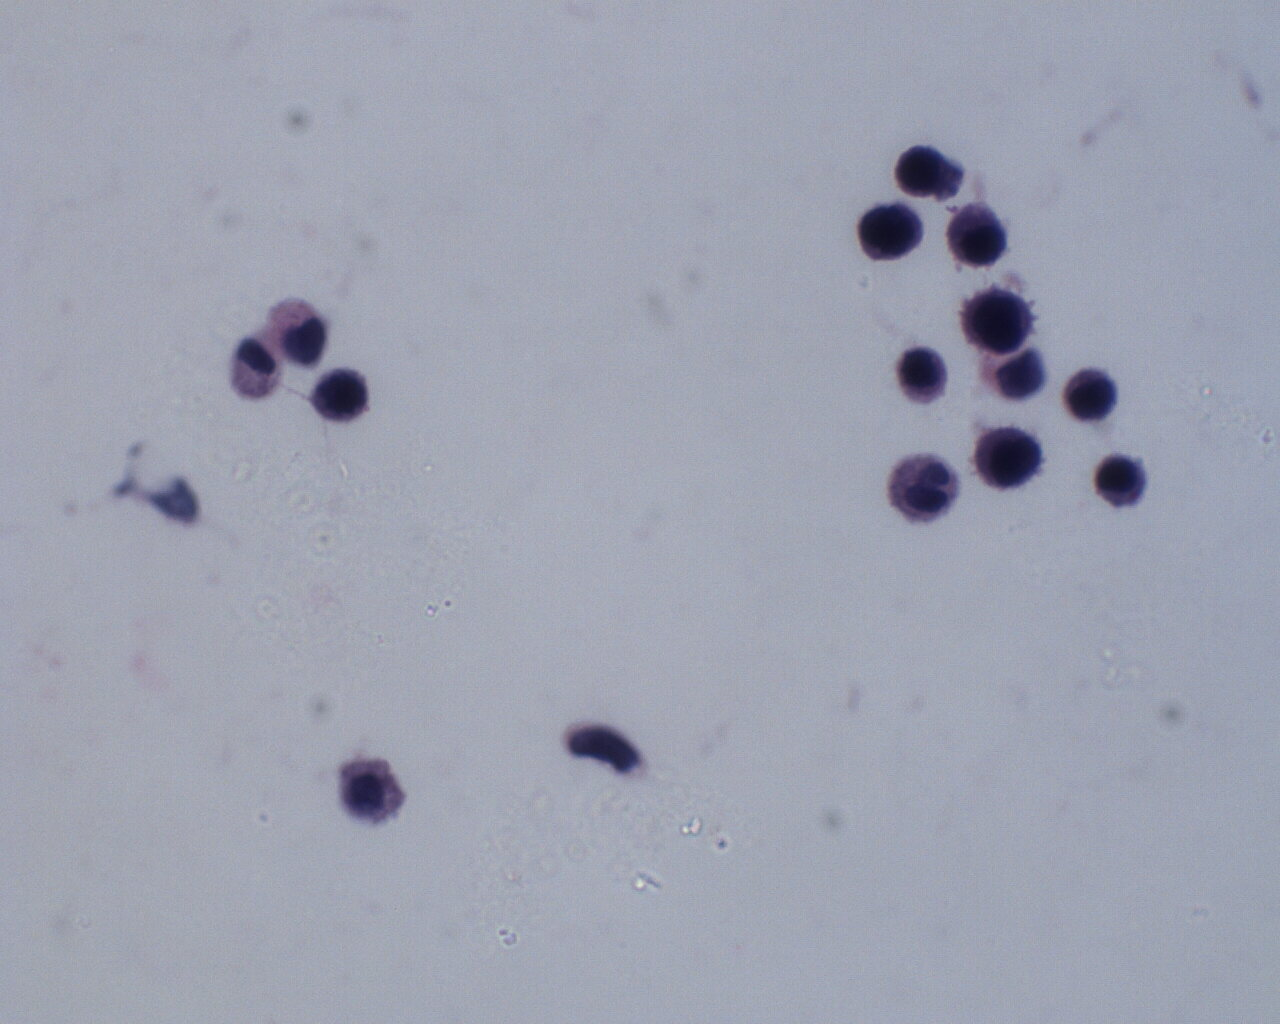ab: (958, 287, 1040, 356), (973, 422, 1046, 493), (890, 141, 967, 203), (859, 199, 926, 263), (946, 202, 1009, 267), (893, 345, 956, 410), (310, 365, 372, 426), (1062, 365, 1120, 424), (1095, 452, 1151, 512)
